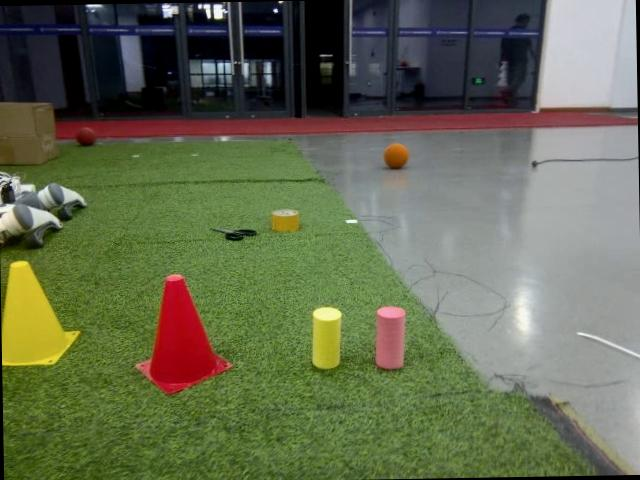orange_ball: (382, 140, 410, 170)
red_ball: (72, 123, 96, 146)
red_barrel: (130, 270, 234, 396)
red_cylinder: (373, 304, 408, 371)
yellow_barrel: (0, 256, 83, 370)
yellow_cylinder: (310, 304, 344, 372)
